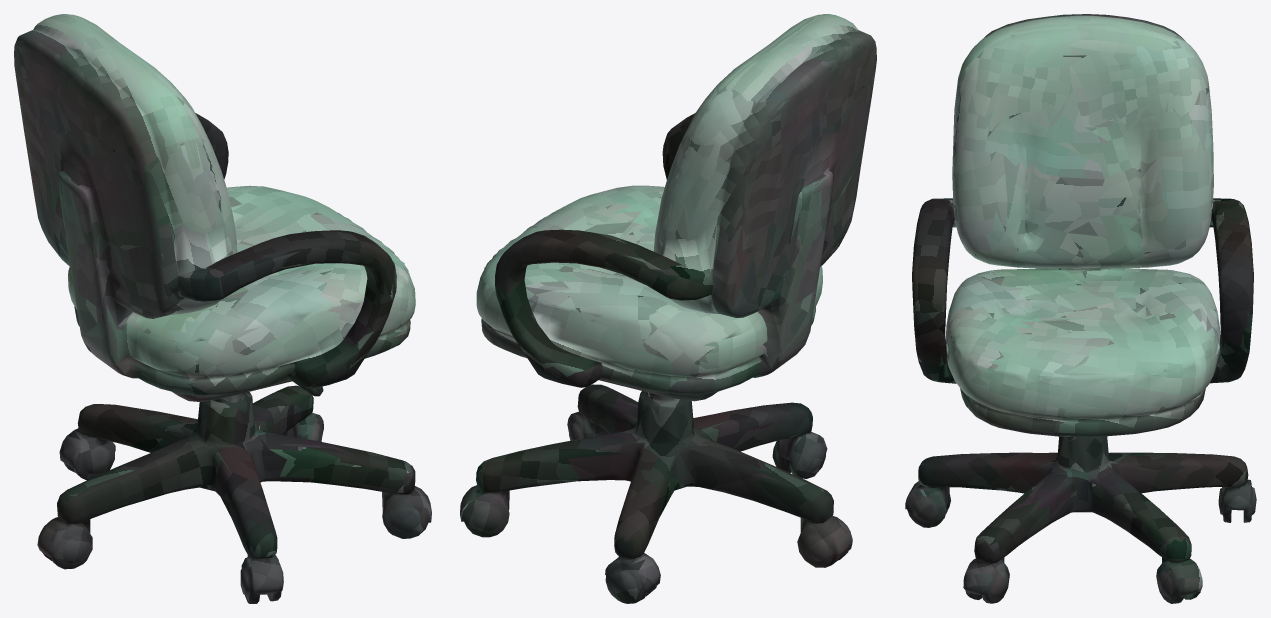
File: KR_사물_s1_office_chair.glb
The picture shows the model from 3 angles, left to right: view 1: azimuth 30°, elevation 25°; view 2: azimuth 150°, elevation 25°; view 3: azimuth 270°, elevation 25°; orthographic projection. The views are drawn at different scales.
Visible parts, largest first — view 1: tripo_node_00d76766-9f7c-48cd-a057-6b8c4d59e495; view 2: tripo_node_00d76766-9f7c-48cd-a057-6b8c4d59e495; view 3: tripo_node_00d76766-9f7c-48cd-a057-6b8c4d59e495.
Boxes of the visible parts, bbox=[...] form: tripo_node_00d76766-9f7c-48cd-a057-6b8c4d59e495: bbox=[14, 14, 431, 603]; tripo_node_00d76766-9f7c-48cd-a057-6b8c4d59e495: bbox=[460, 14, 876, 603]; tripo_node_00d76766-9f7c-48cd-a057-6b8c4d59e495: bbox=[905, 14, 1256, 603].
Bounding box in the file's own units: 0.6777 × 1 × 0.6804.
Materials: 1 (1 with a texture image).
